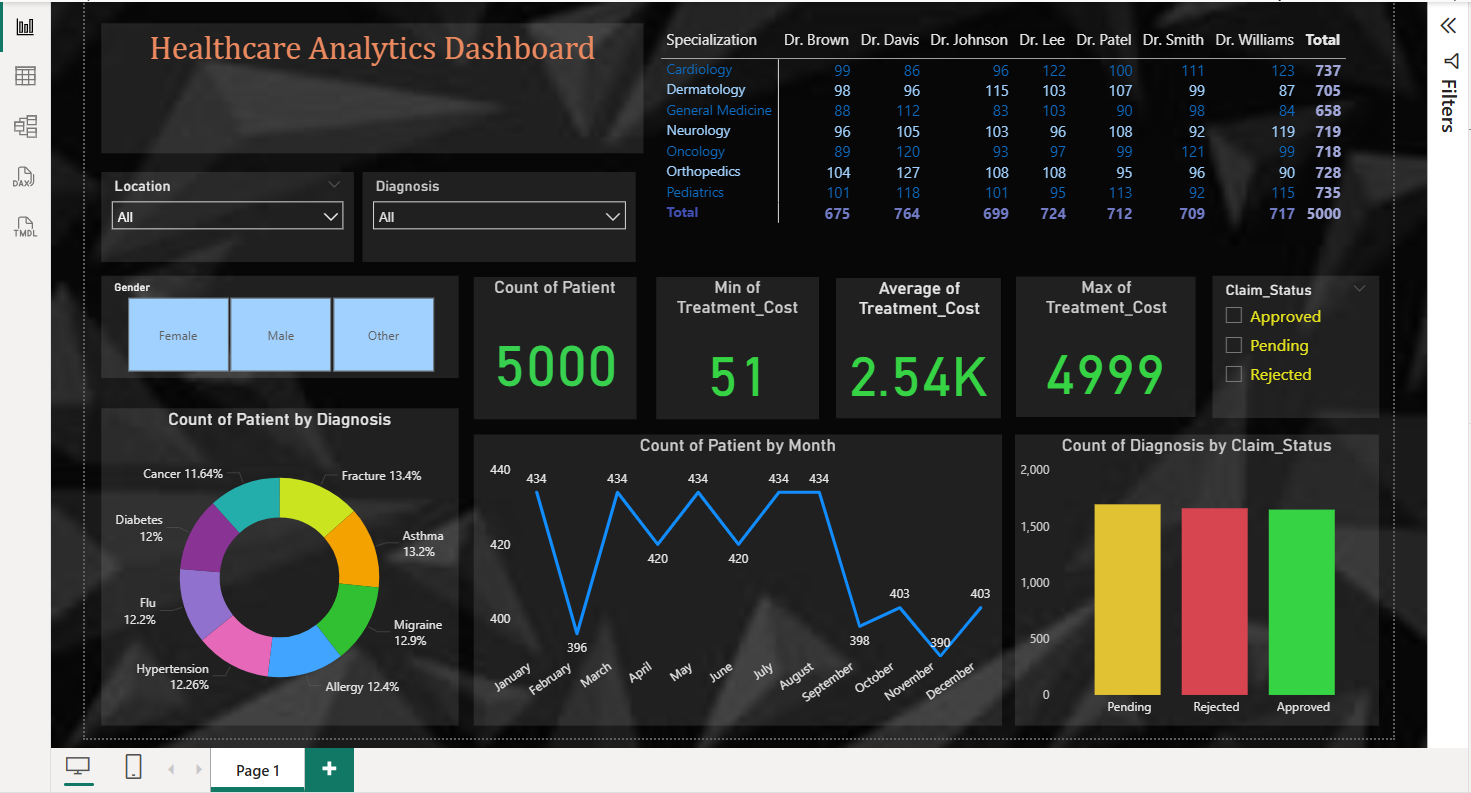

Layout of this report page (visuals, bound fields, positions):
{"tool":"powerbi","page":{"name":"Page 1","canvas":[1280,720],"ordinal":0},"visuals":[{"type":"card","title":"Count of Patient","fields":{"Values":["Large_Healthcare_Data.Patient_ID"]},"box":[380,268.4,159.1,139.2],"z":0},{"type":"lineChart","title":"Count of Patient by Month","fields":{"Category":["Large_Healthcare_Data.Appointment_Date.Variation.Date Hierarchy.Month"],"Y":["Large_Healthcare_Data.Patient_ID"]},"box":[380,423.1,517,285],"z":1000},{"type":"donutChart","title":"Count of Patient by Diagnosis","fields":{"Category":["Large_Healthcare_Data.Diagnosis"],"Y":["Large_Healthcare_Data.Patient_ID"]},"box":[15.4,397.5,349.2,310.7],"z":2000},{"type":"slicer","fields":{"Values":["Large_Healthcare_Data.Claim_Status"]},"box":[1102.7,268.2,163,138.9],"z":3000},{"type":"card","title":"Max of Treatment_Cost","fields":{"Values":["Large_Healthcare_Data.Treatment_Cost"]},"box":[909.8,268.2,177.5,138.9],"z":4000},{"type":"card","title":"Average of Treatment_Cost","fields":{"Values":["Large_Healthcare_Data.Treatment_Cost"]},"box":[733.5,268.4,163.5,139.2],"z":5000},{"type":"slicer","fields":{"Values":["Large_Healthcare_Data.Location"]},"box":[15.4,166.9,247,87.8],"z":6000},{"type":"card","title":"Min of Treatment_Cost","fields":{"Values":["Large_Healthcare_Data.Treatment_Cost"]},"box":[559,268.4,159.1,139.2],"z":7000},{"type":"slicer","fields":{"Values":["Large_Healthcare_Data.Diagnosis"]},"box":[272.1,166.9,267.2,87.8],"z":8000},{"type":"columnChart","title":"Count of Diagnosis by Claim_Status","fields":{"Category":["Large_Healthcare_Data.Claim_Status"],"Y":["Large_Healthcare_Data.Diagnosis"]},"box":[910.2,423.1,355.7,285],"z":9000},{"type":"slicer","fields":{"Values":["Large_Healthcare_Data.Gender"]},"box":[15.4,268.2,349.2,100.3],"z":10000},{"type":"pivotTable","fields":{"Values":["Large_Healthcare_Data.Diagnosis"],"Columns":["Large_Healthcare_Data.Doctor"],"Rows":["Large_Healthcare_Data.Specialization"]},"box":[559,21,707,238.6],"z":10001},{"type":"textbox","box":[15.4,21.2,530.6,127.4],"z":10002}]}

Visuals, with their boxes on the page's 1280x720 design canvas (x1, y1, x2, y2). These are canvas units, not pixel positions in the 1471x793 screenshot, which may show the page scaled, cropped or inside an application window:
"Count of Patient" card: select_region(380, 268, 539, 408)
"Count of Patient by Month" lineChart: select_region(380, 423, 897, 708)
"Count of Patient by Diagnosis" donutChart: select_region(15, 398, 365, 708)
slicer - Large_Healthcare_Data.Claim_Status: select_region(1103, 268, 1266, 407)
"Max of Treatment_Cost" card: select_region(910, 268, 1087, 407)
"Average of Treatment_Cost" card: select_region(734, 268, 897, 408)
slicer - Large_Healthcare_Data.Location: select_region(15, 167, 262, 255)
"Min of Treatment_Cost" card: select_region(559, 268, 718, 408)
slicer - Large_Healthcare_Data.Diagnosis: select_region(272, 167, 539, 255)
"Count of Diagnosis by Claim_Status" columnChart: select_region(910, 423, 1266, 708)
slicer - Large_Healthcare_Data.Gender: select_region(15, 268, 365, 368)
pivotTable - Large_Healthcare_Data.Diagnosis x Large_Healthcare_Data.Doctor: select_region(559, 21, 1266, 260)
textbox: select_region(15, 21, 546, 149)
